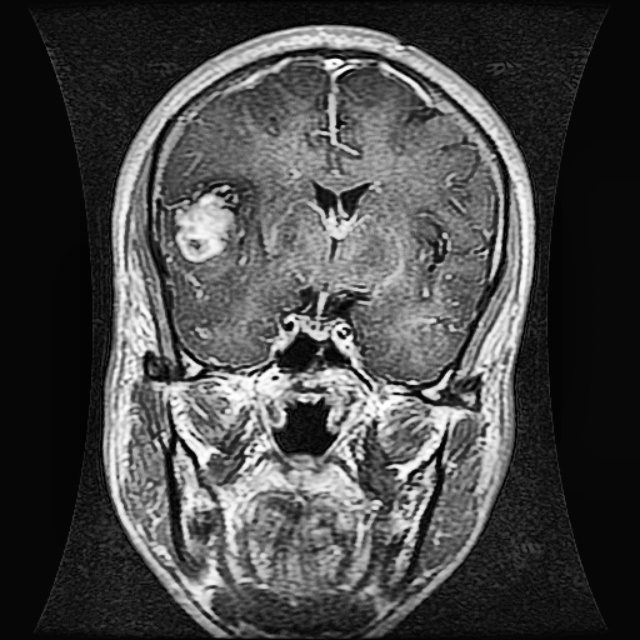Meningioma: (164, 172, 253, 267)
